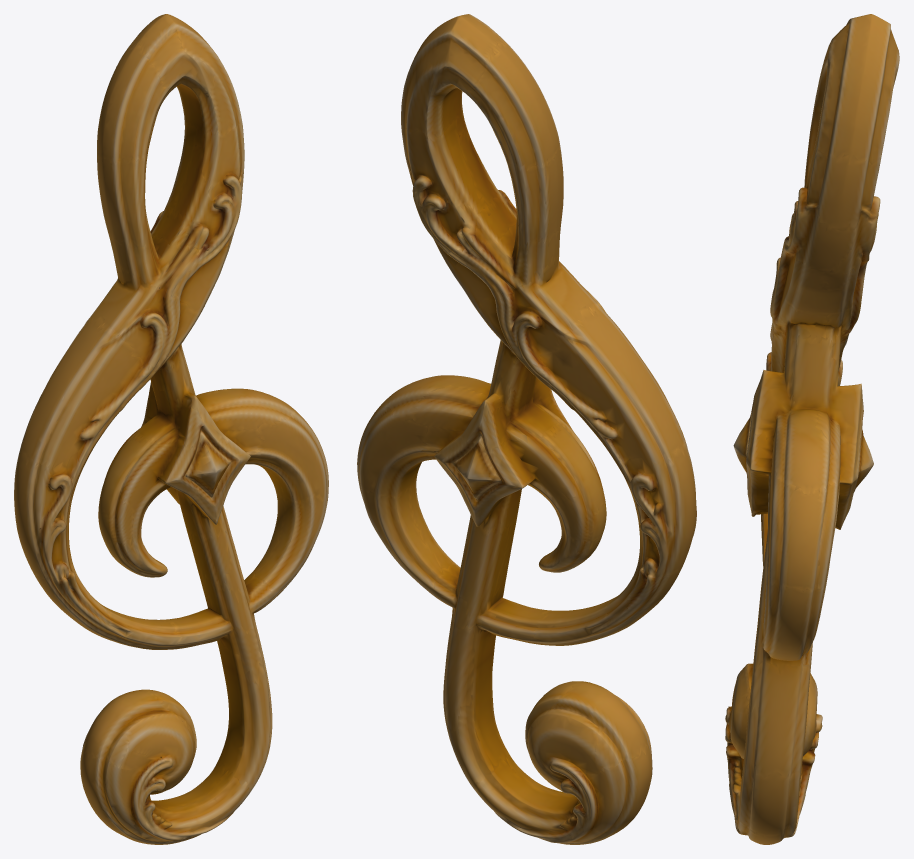
Rendered from clave_moeda.glb.
The picture shows the model from 3 angles, left to right: view 1: azimuth 30°, elevation 25°; view 2: azimuth 150°, elevation 25°; view 3: azimuth 270°, elevation 25°; orthographic projection. The views are drawn at different scales.
Parts seen in each view (by area): view 1: tripo_node_d115ff32-140b-42bd-8284-10c28a4afe4b; view 2: tripo_node_d115ff32-140b-42bd-8284-10c28a4afe4b; view 3: tripo_node_d115ff32-140b-42bd-8284-10c28a4afe4b.
Part boxes in pixels (left/top/right/bottom): tripo_node_d115ff32-140b-42bd-8284-10c28a4afe4b: left=14, top=14, right=328, bottom=844; tripo_node_d115ff32-140b-42bd-8284-10c28a4afe4b: left=357, top=14, right=696, bottom=844; tripo_node_d115ff32-140b-42bd-8284-10c28a4afe4b: left=725, top=14, right=899, bottom=844.
Size of the model in its own units: 0.399 by 0.9795 by 0.1838.
Materials: 1 (1 with a texture image).
